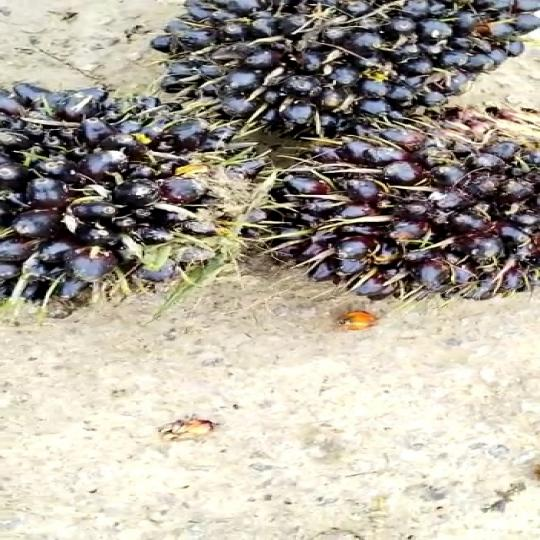mentah: (0, 81, 242, 326), (250, 108, 540, 304), (145, 0, 540, 119)
